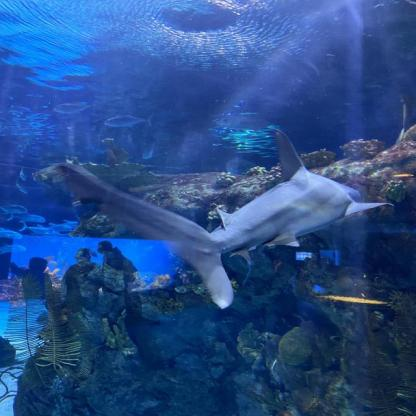fish: (104, 115, 153, 128), (52, 102, 96, 114), (20, 221, 52, 236), (6, 212, 45, 224), (0, 202, 28, 217), (0, 243, 27, 255), (54, 219, 82, 229), (46, 223, 72, 233), (0, 228, 23, 238), (16, 179, 28, 193), (18, 168, 26, 180)
shark: (58, 128, 394, 308)
